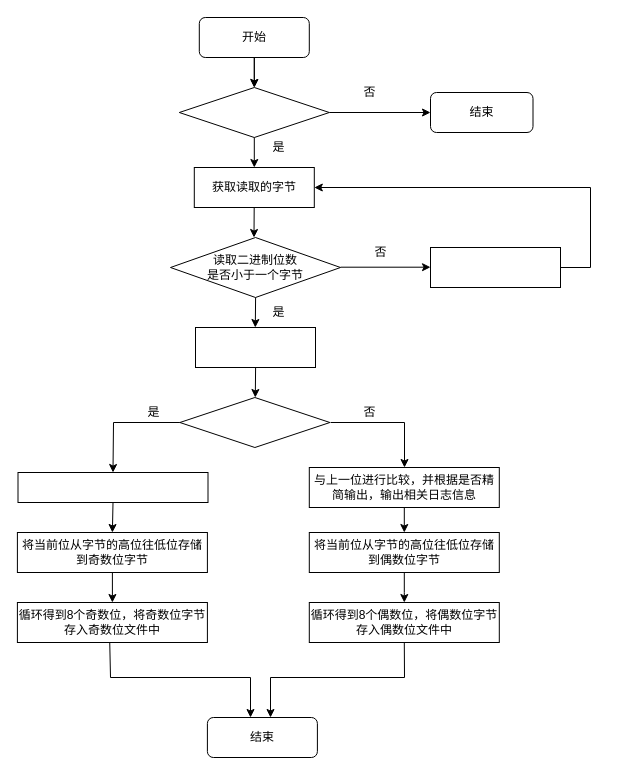
This 617x775 diagram has some shape labels left out. The shapes that lost their labels are listed below. From the top down, each one's centre as x and y in pixels, then its label:
At point 253,112: "文件读取到数据".
At point 495,267: "读取下一字节".
At point 255,347: "右移一位获取当前位".
At point 254,422: "奇数位".
At point 112,487: "将该位保存位上一位".
